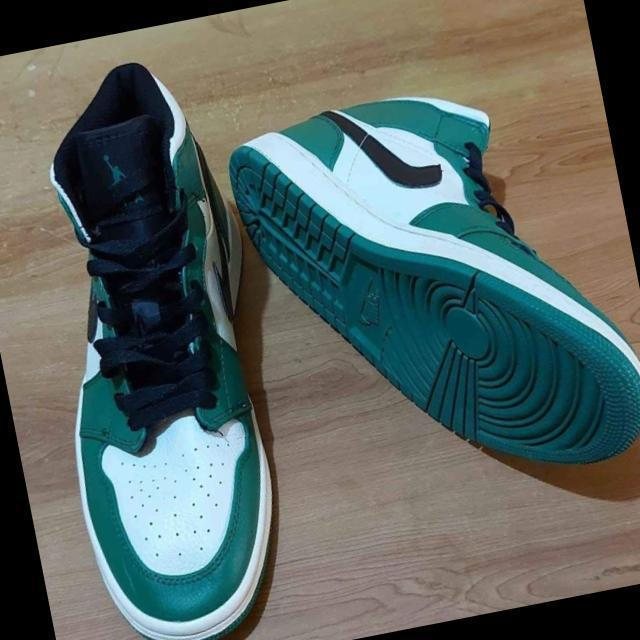nike fake jordan 1: (0, 45, 322, 640)
